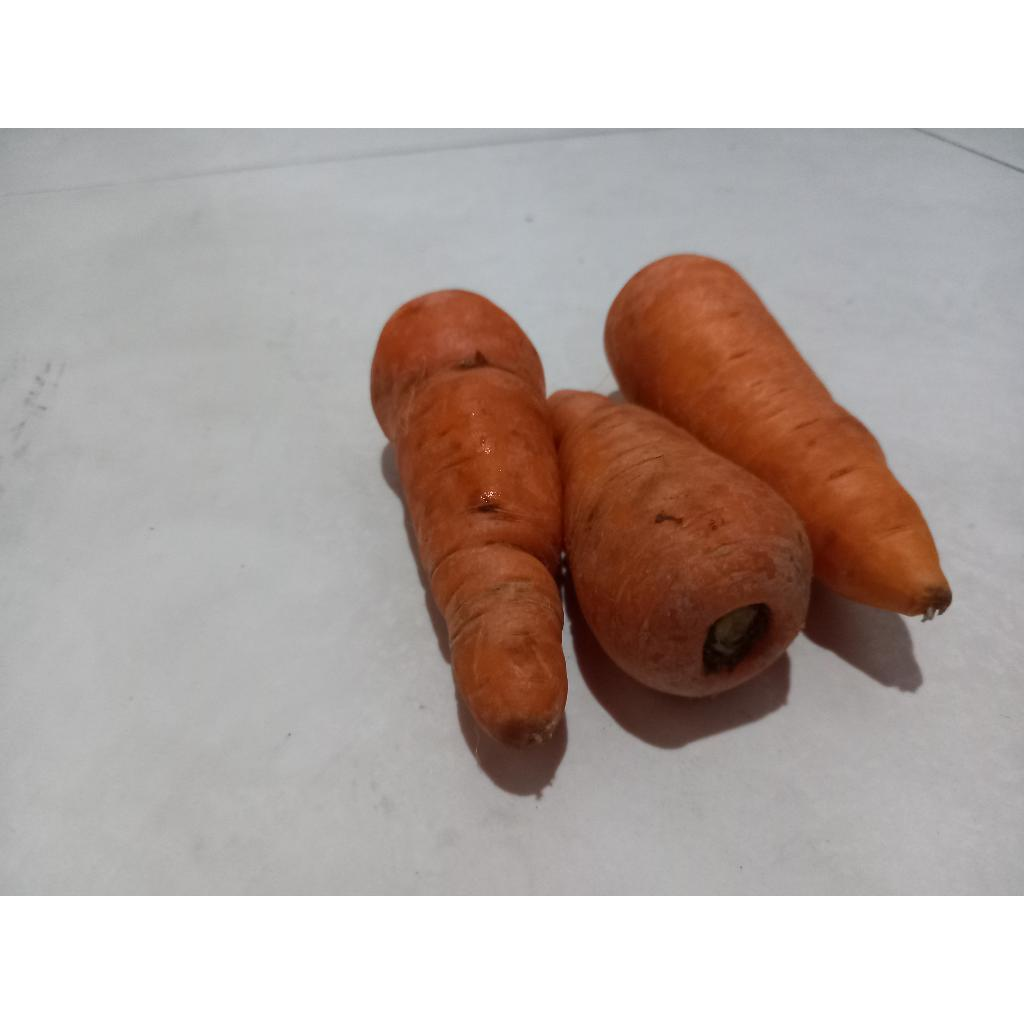carrot: (604, 254, 952, 618), (372, 290, 568, 748), (548, 390, 812, 696)
